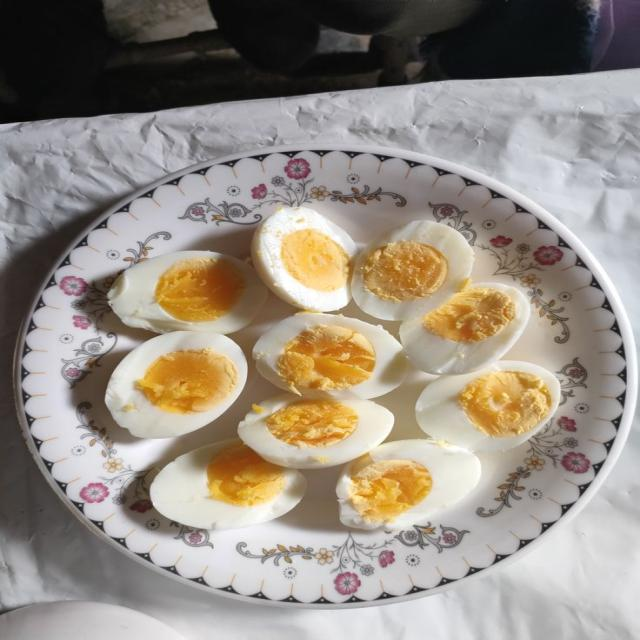eggs: (98, 210, 544, 538)
